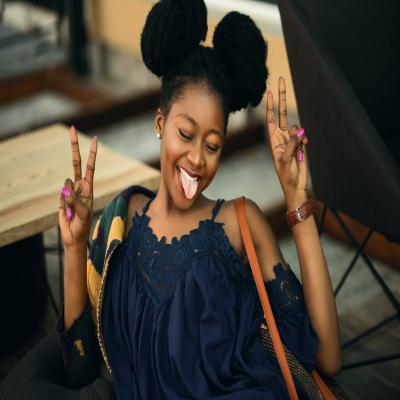happy: (154, 75, 224, 213)
